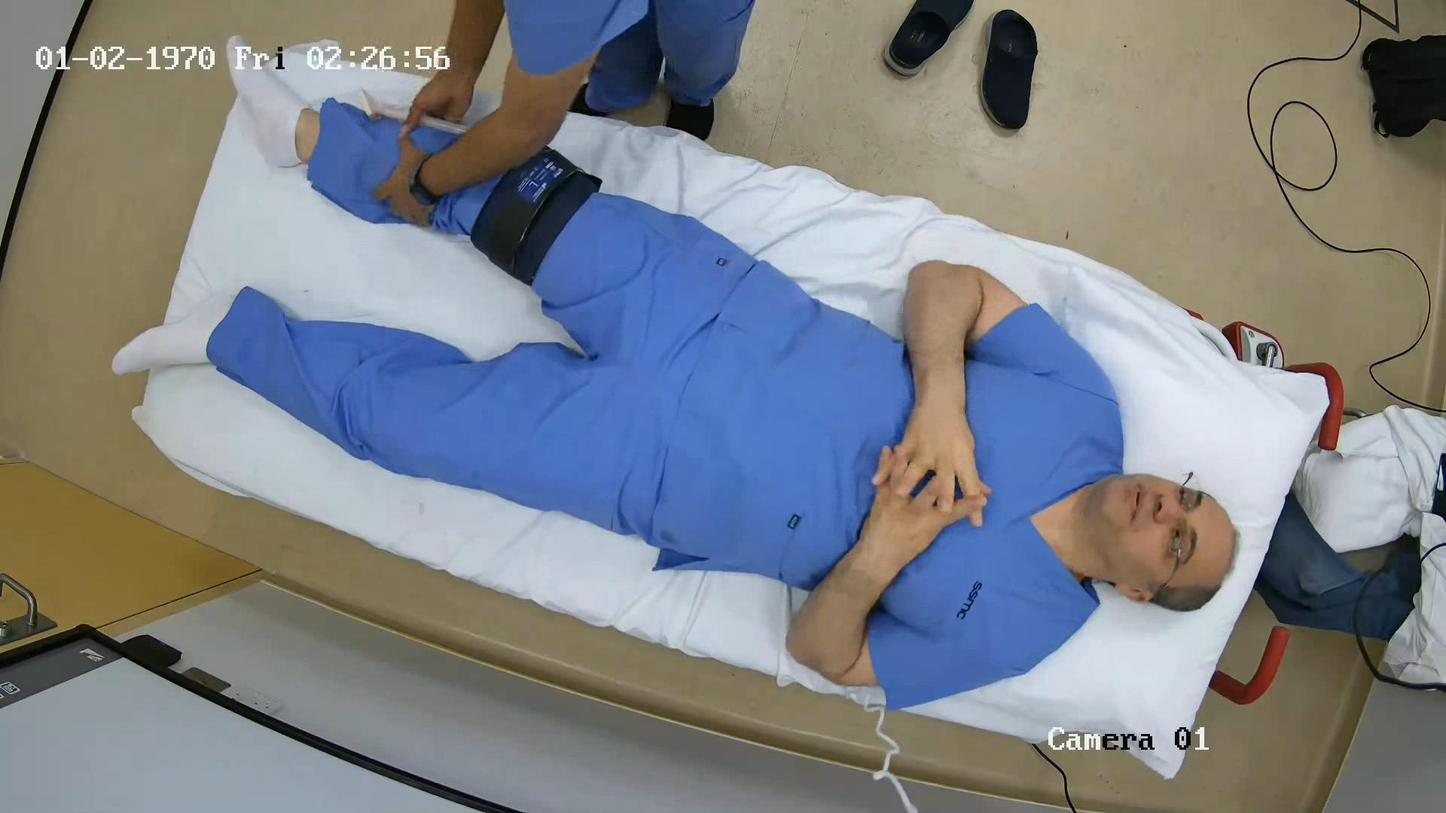bed: (114, 38, 1329, 778)
patient: (207, 102, 1234, 708)
prepstick: (358, 90, 407, 123), (419, 117, 467, 134)
tourniquet: (470, 147, 601, 284)
